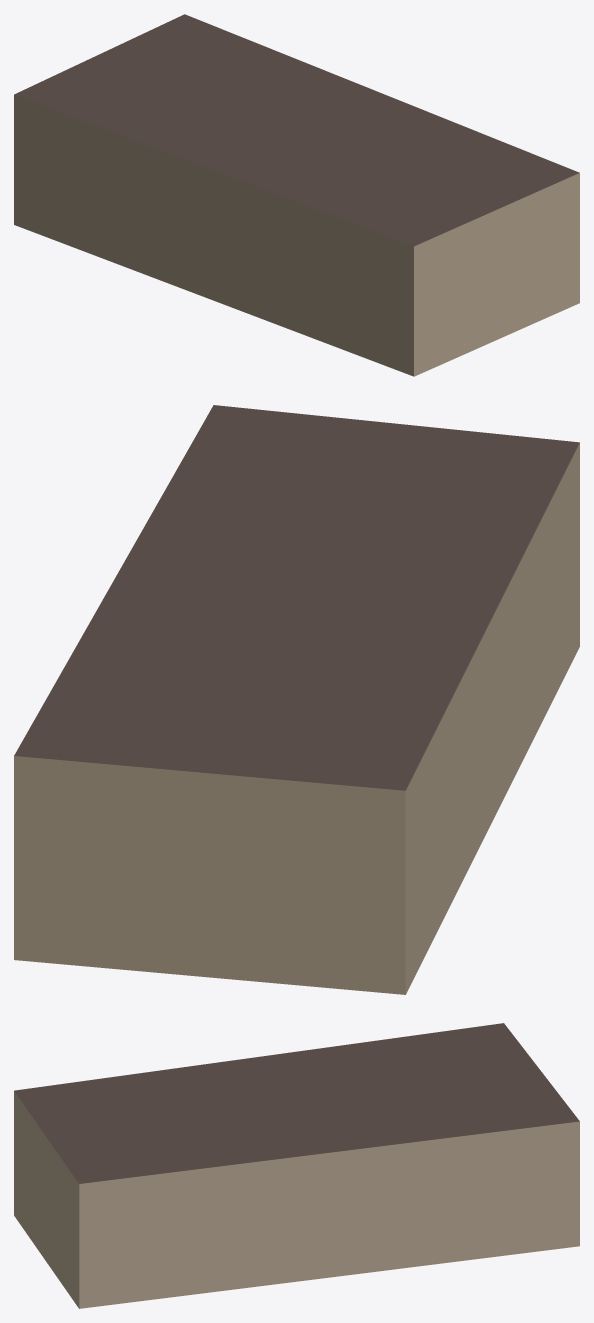
3 views of the same model, one above another, from view 1: azimuth 30°, elevation 25°; view 2: azimuth 150°, elevation 25°; view 3: azimuth 270°, elevation 25° (orthographic). The views are drawn at different scales.
Visible parts, largest first — view 1: HP-w1197008147; view 2: HP-w1197008147; view 3: HP-w1197008147.
Part boxes in pixels (x1=…): HP-w1197008147: x1=14, y1=14, x2=579, y2=376; HP-w1197008147: x1=14, y1=405, x2=579, y2=994; HP-w1197008147: x1=14, y1=1023, x2=579, y2=1308.
Size of the model in its own units: 24.89 by 9 by 36.98.
